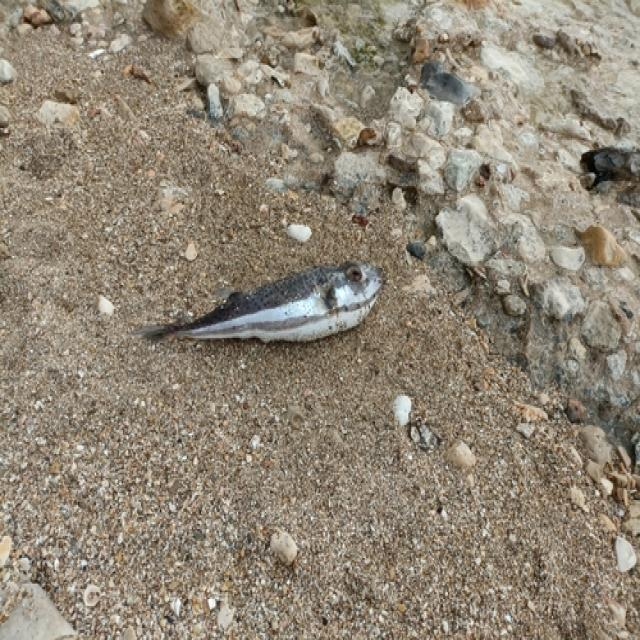Balik: (135, 263, 382, 341)
